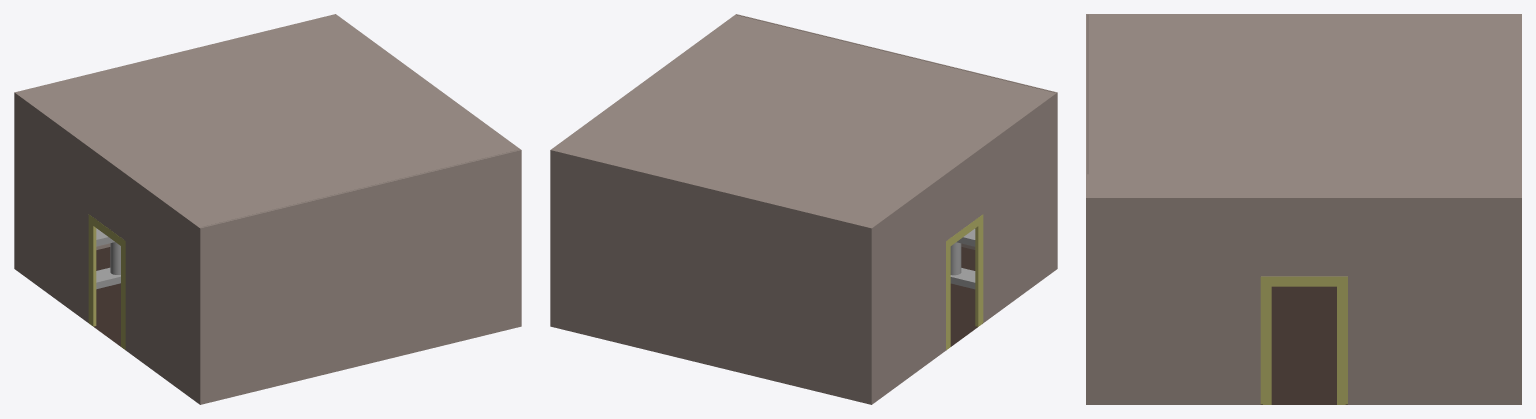
File: Room43_Tower.fbx
3 views of the same model, side by side, from view 1: azimuth 30°, elevation 25°; view 2: azimuth 150°, elevation 25°; view 3: azimuth 270°, elevation 25° (orthographic). The views are drawn at different scales.
Visible parts, largest first — view 1: Roof, WallPosZ, WallSlicedPosX, WallPosZ14, WallSlicedPosX16, DoorFramePosX, Floor, WallNegZ; view 2: Roof, WallNegZ, WallSlicedPosX, WallNegZ5, WallSlicedPosX16, DoorFramePosX, Floor, WallPosZ, WallSlicedNegX; view 3: Roof, WallSlicedNegX, WallSlicedNegX4, Floor, DoorFrameNegX, WallSlicedPosX, WallPosZ, WallNegZ.
Boxes of the visible parts, x1,y1,x2,y2 form: Roof: [17, 15, 519, 227]; WallPosZ: [199, 150, 521, 364]; WallSlicedPosX: [14, 92, 200, 363]; WallPosZ14: [199, 286, 521, 404]; WallSlicedPosX16: [14, 229, 199, 403]; DoorFramePosX: [88, 214, 125, 349]; Floor: [89, 247, 120, 346]; WallNegZ: [14, 14, 335, 228]; Roof: [552, 15, 1054, 227]; WallNegZ: [550, 150, 872, 364]; WallSlicedPosX: [870, 92, 1056, 363]; WallNegZ5: [550, 286, 872, 404]; WallSlicedPosX16: [869, 229, 1056, 404]; DoorFramePosX: [946, 214, 983, 349]; Floor: [946, 247, 982, 350]; WallPosZ: [736, 14, 1057, 228]; WallSlicedNegX: [550, 14, 736, 286]; Roof: [1088, 14, 1520, 197]; WallSlicedNegX: [1086, 197, 1521, 357]; WallSlicedNegX4: [1086, 357, 1521, 404]; Floor: [1260, 286, 1347, 404]; DoorFrameNegX: [1260, 276, 1347, 404]; WallSlicedPosX: [1086, 14, 1520, 174]; WallPosZ: [1086, 14, 1087, 357]; WallNegZ: [1520, 14, 1521, 357].
Size of the model in its own units: 800 by 420 by 801.
